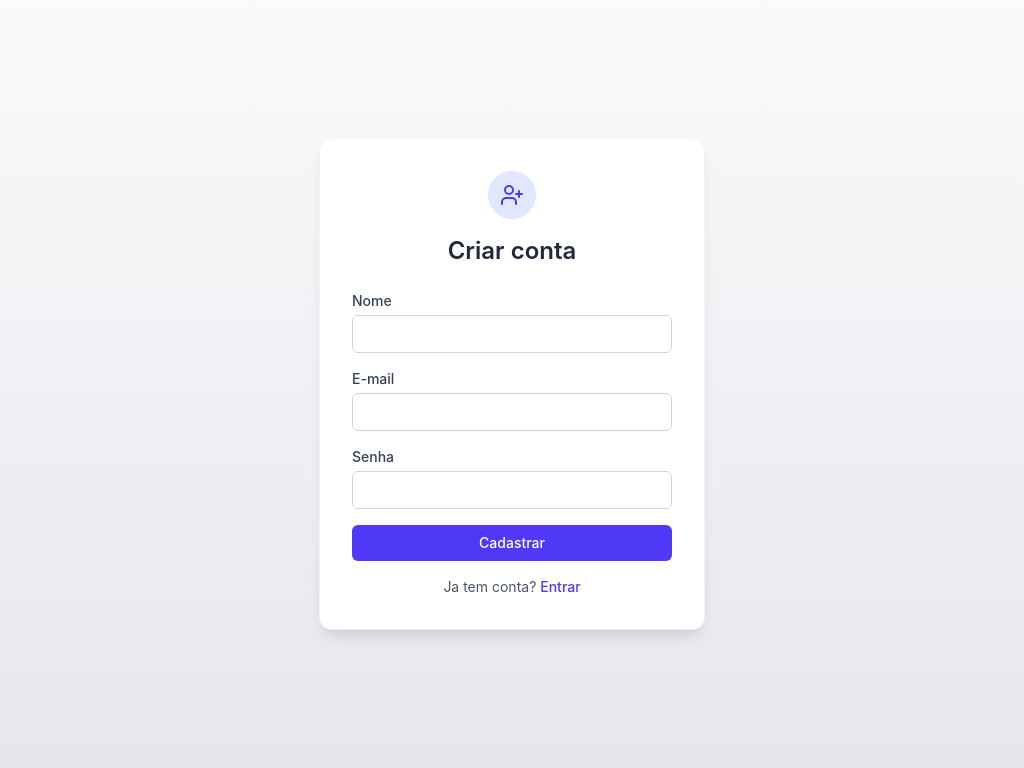
Test case: Cadastro › valida o formato do e-mail
Type "Ana" into the field labelled "Nome" at (512, 334), box x1=352 y1=315 x2=672 y2=353
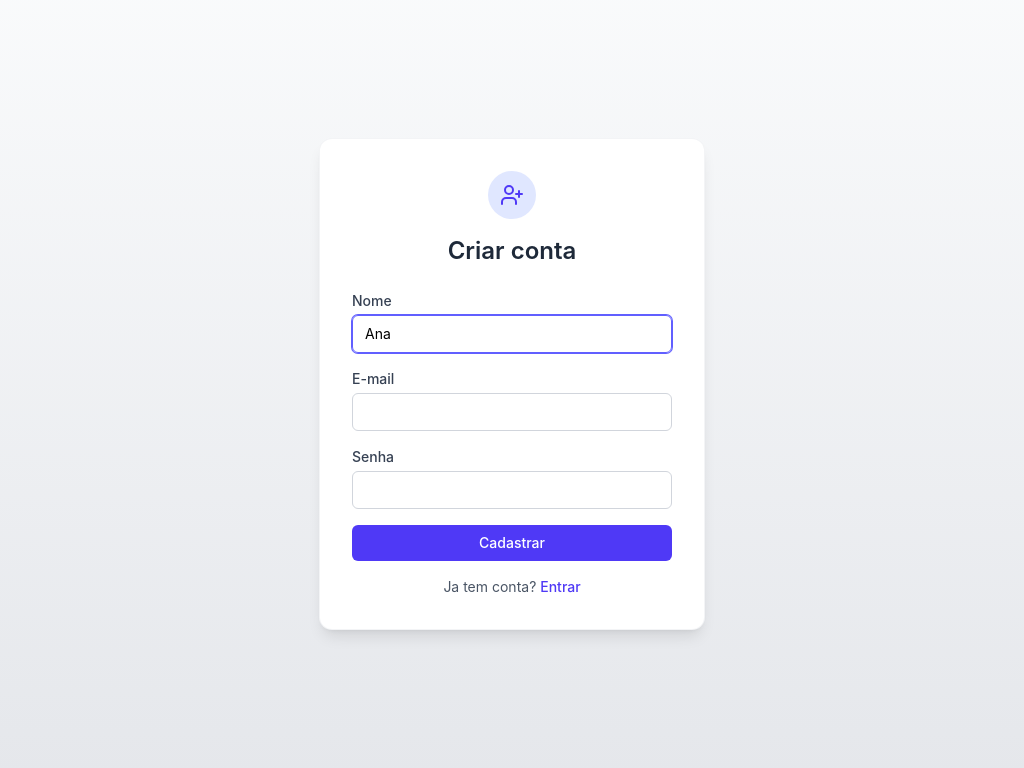
Type "invalido" into the field labelled "E-mail" at (512, 412), box x1=352 y1=393 x2=672 y2=431
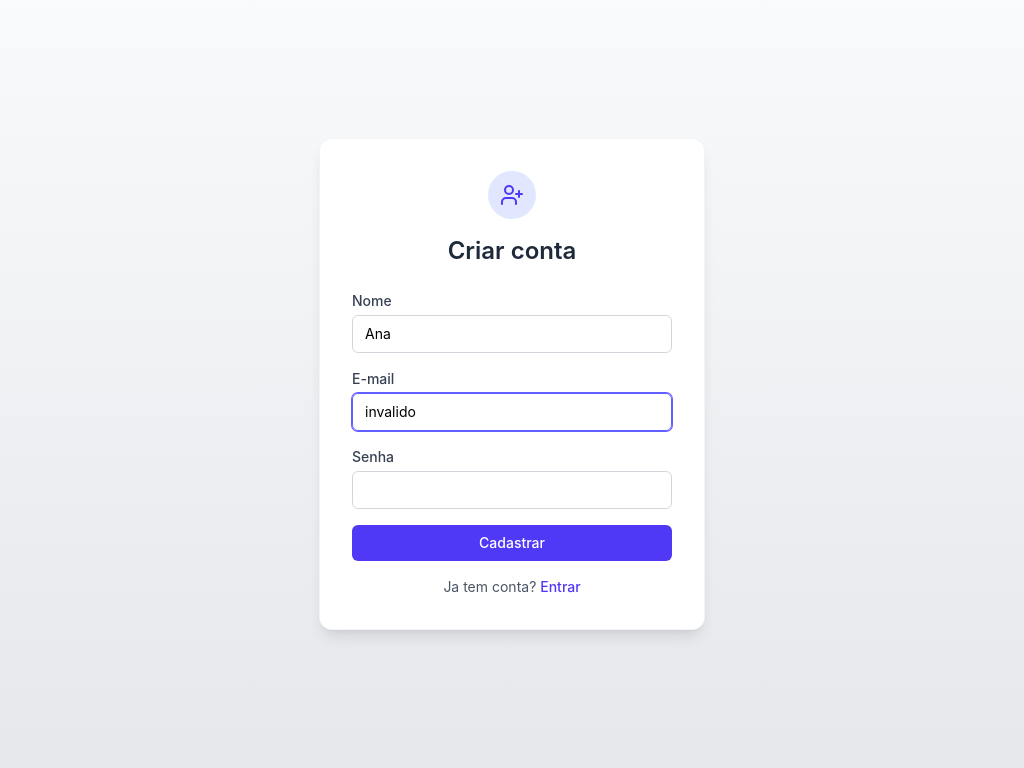
Type "senha123" into the password field labelled "Senha" at (512, 490), box x1=352 y1=471 x2=672 y2=509
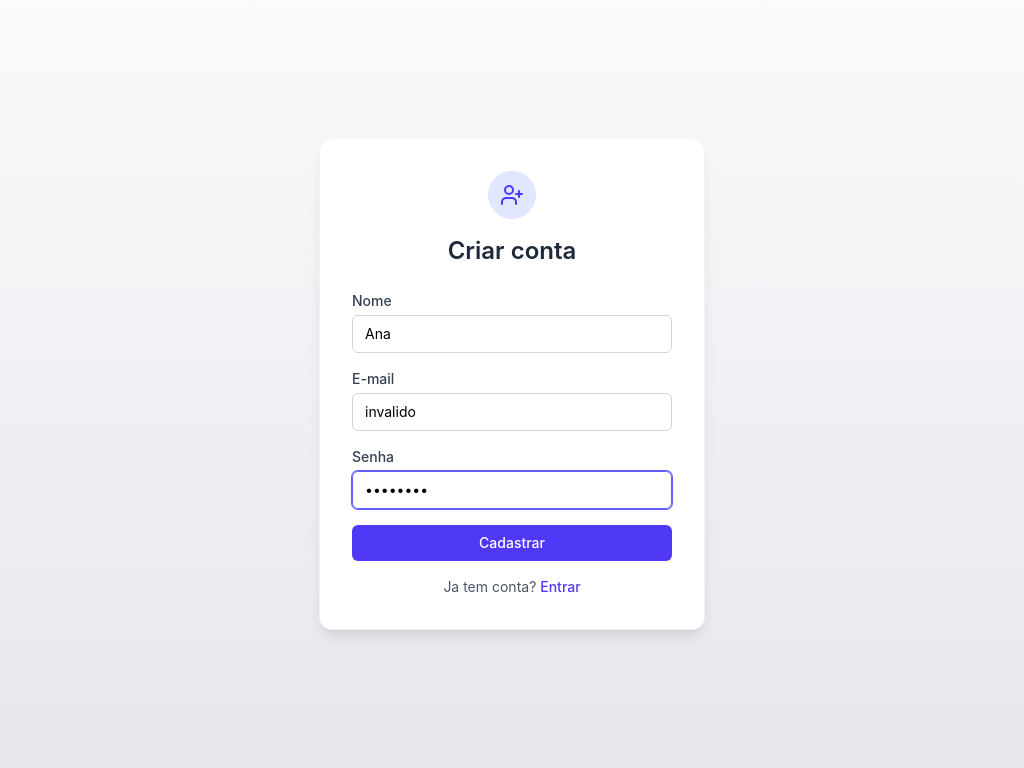
Click the button "Cadastrar" at (512, 543), box x1=352 y1=525 x2=672 y2=561
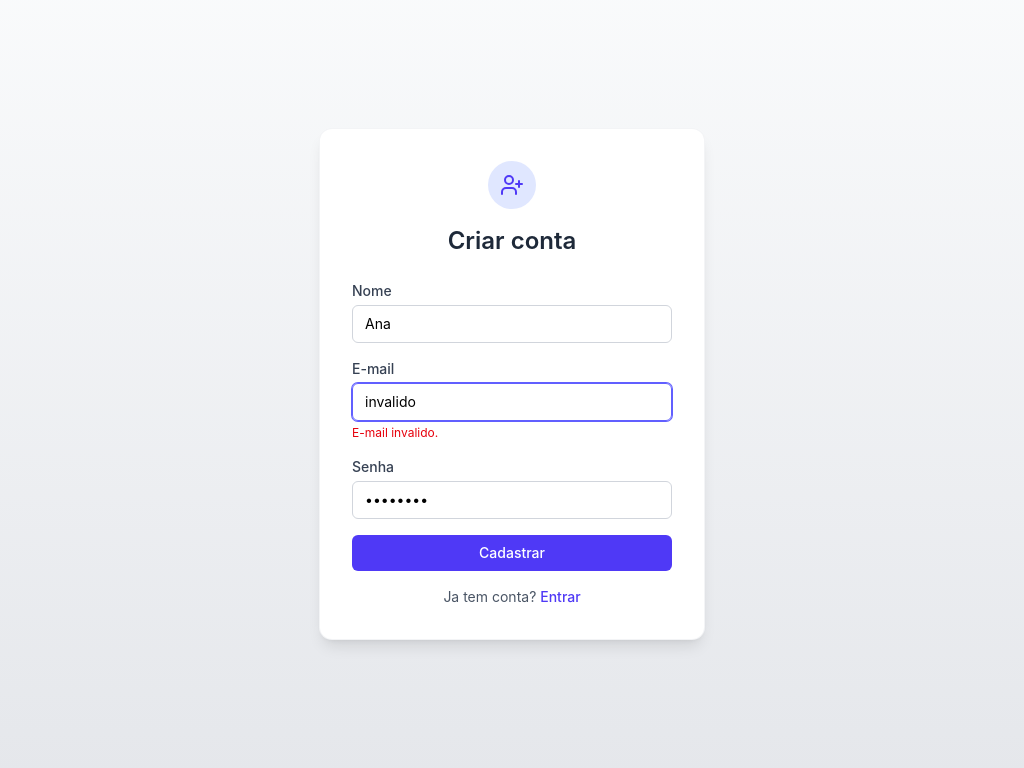
Now the text "E-mail invalido." is shown, box x1=352 y1=425 x2=438 y2=440
